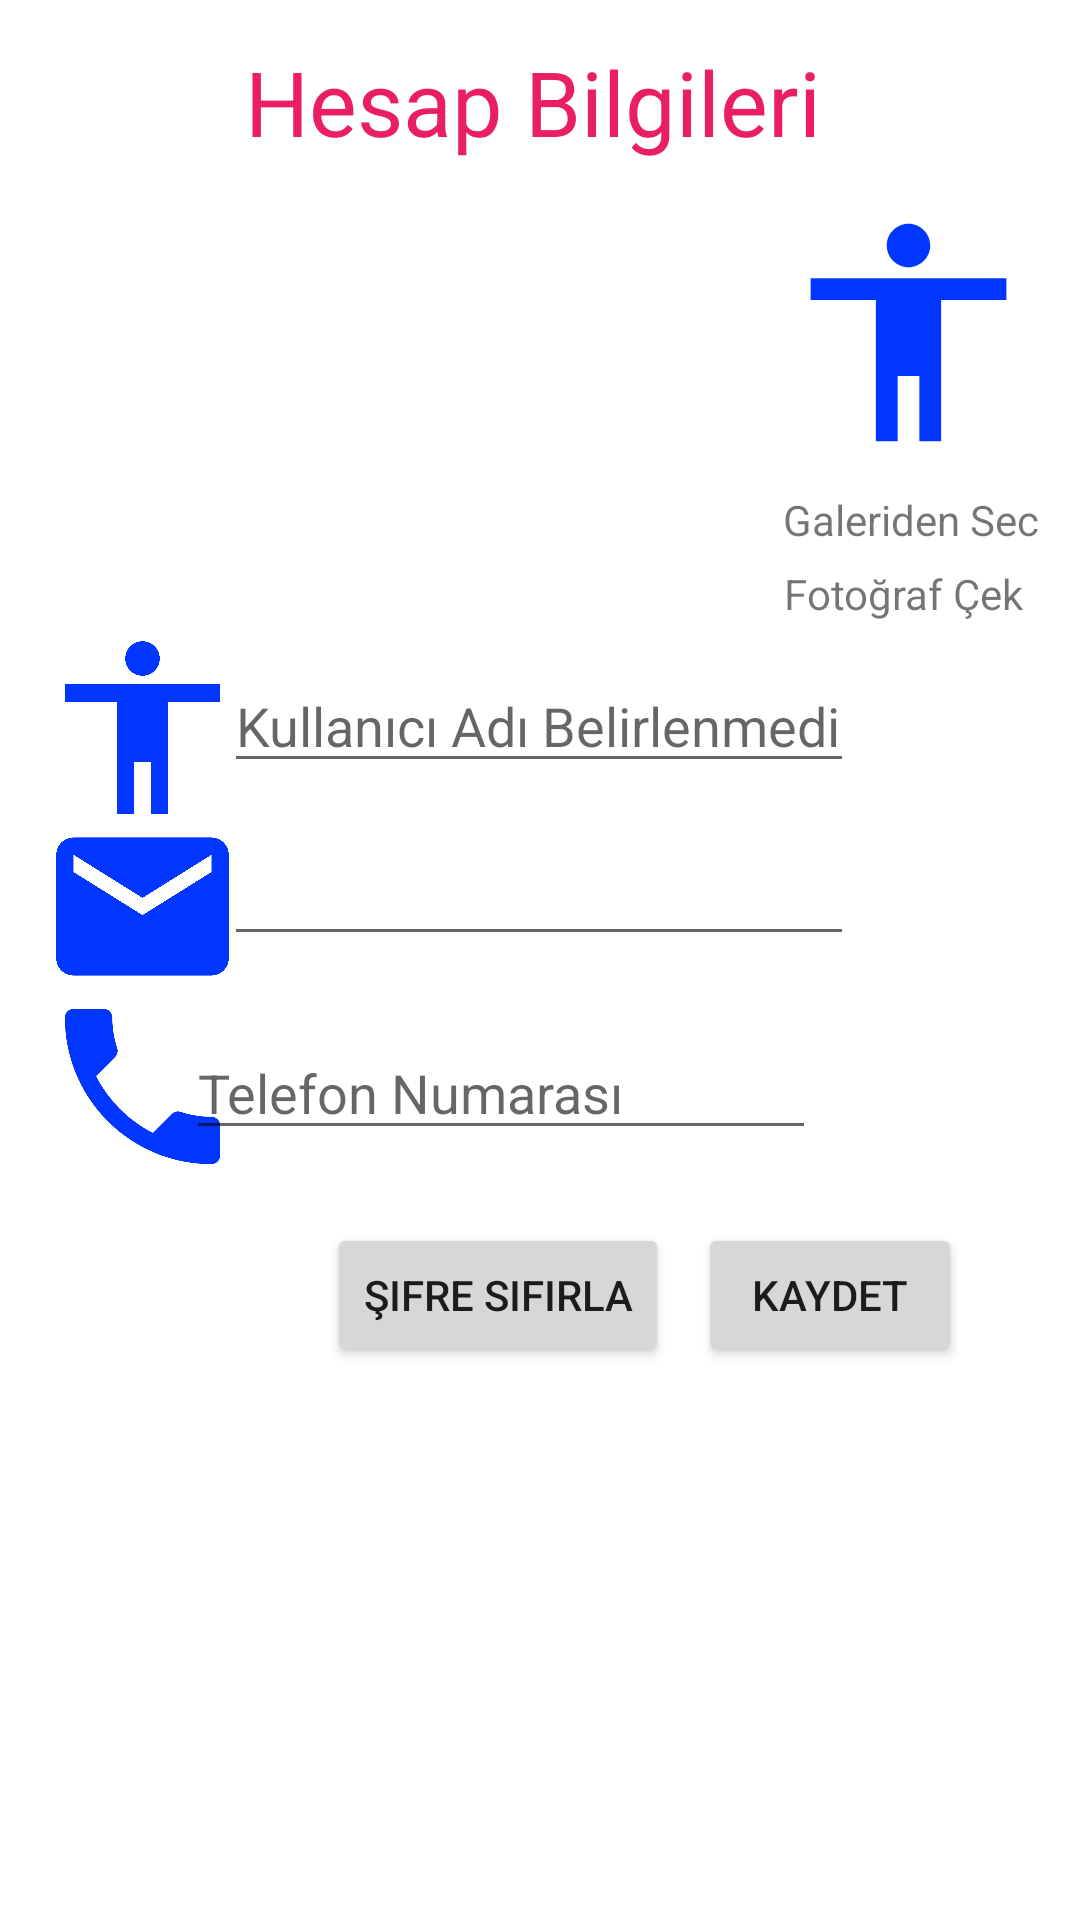

Named icons in this screenshot (1080x1920) and their centers, (x,y):
email: (142,906)
